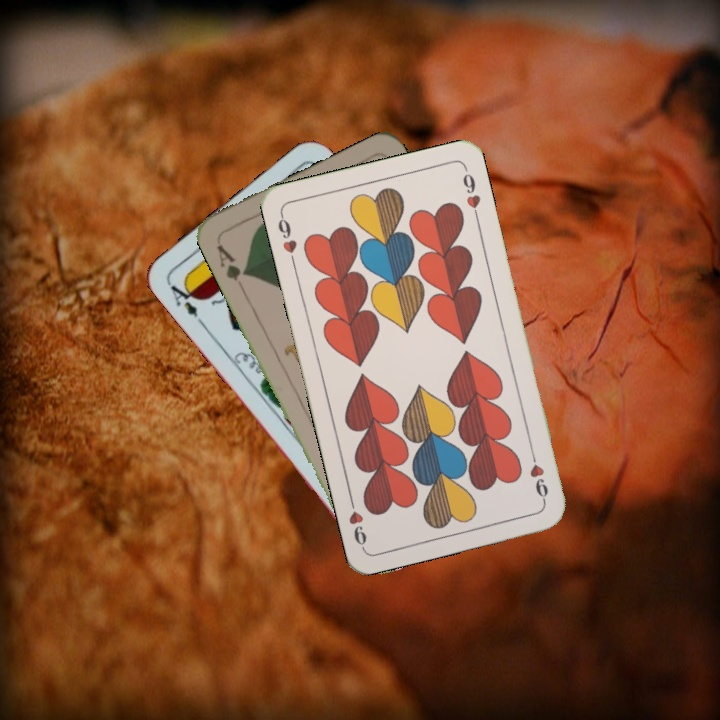EA: (166, 276, 207, 328)
GA: (213, 240, 251, 284)
H9: (525, 446, 551, 505), (274, 209, 300, 267)
